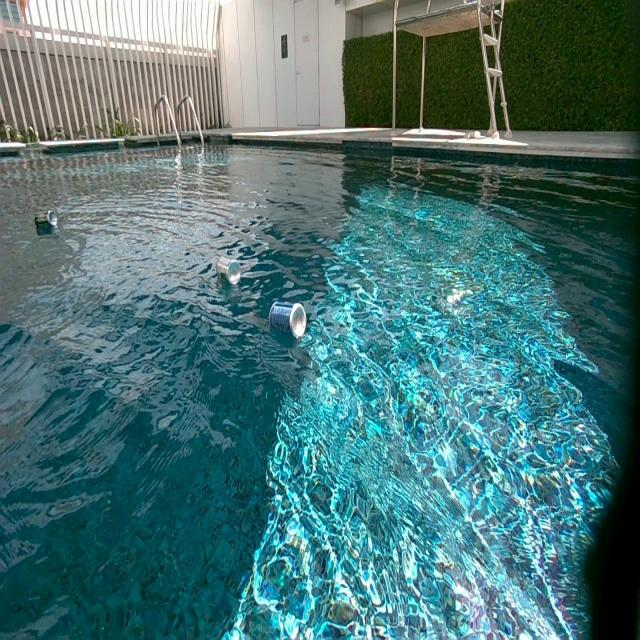Cans: (270, 300, 306, 338), (216, 260, 242, 286), (38, 210, 57, 229)
